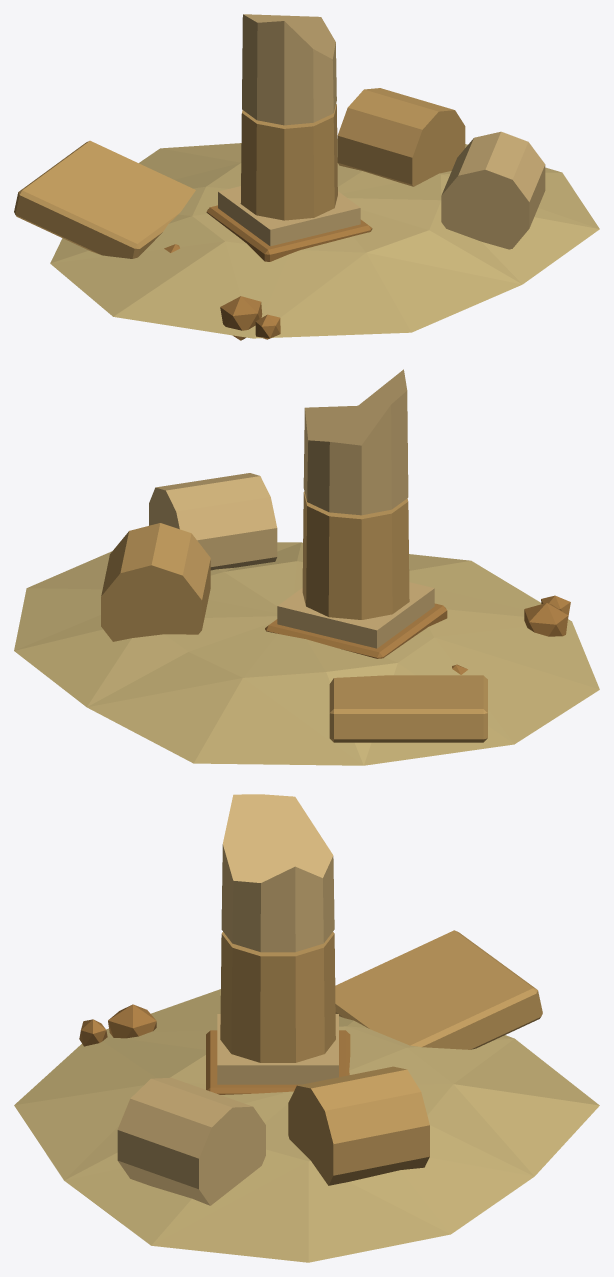
The model's file is pyramid_ruin_broken.glb.
The picture shows the model from 3 angles, top to bottom: view 1: azimuth 30°, elevation 25°; view 2: azimuth 150°, elevation 25°; view 3: azimuth 270°, elevation 25°; orthographic projection. The views are drawn at different scales.
Visible parts, largest first — view 1: pyramid_ruin_broken; view 2: pyramid_ruin_broken; view 3: pyramid_ruin_broken.
Part boxes in pixels (x1=…): pyramid_ruin_broken: x1=14, y1=14, x2=599, y2=340; pyramid_ruin_broken: x1=14, y1=369, x2=599, y2=765; pyramid_ruin_broken: x1=14, y1=794, x2=599, y2=1262.
Bounding box in the file's own units: 4.29 × 2.28 × 3.85.
